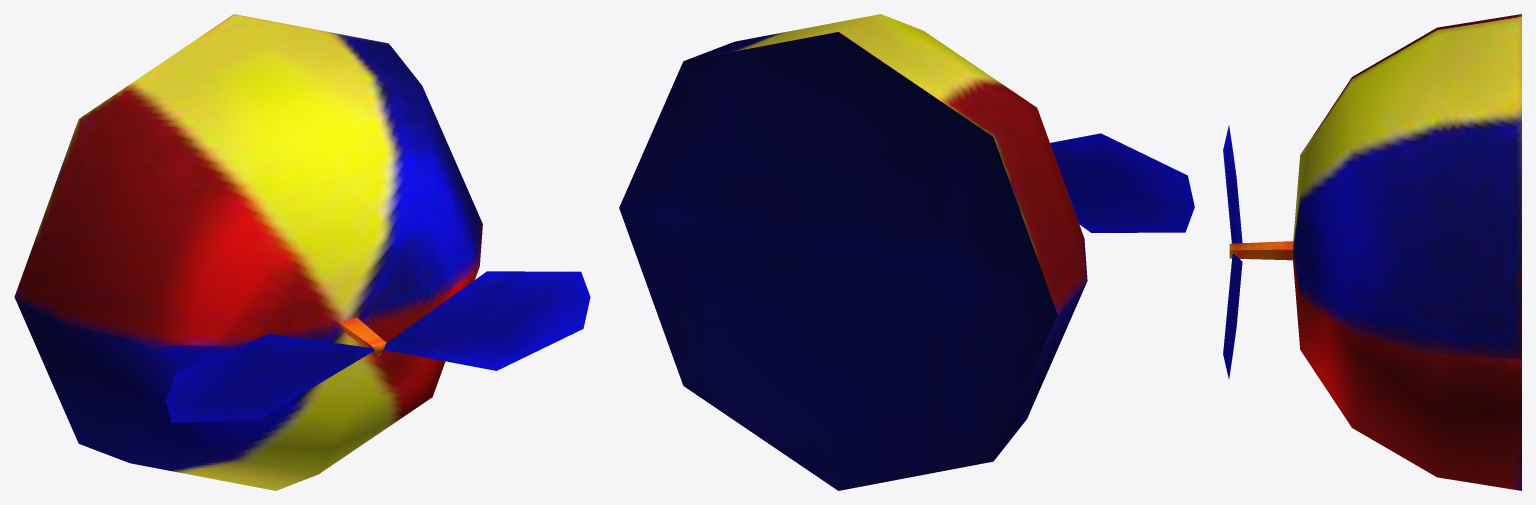
File: tt_m_chr_avt_acc_hat_propellerHat.glb
3 views of the same model, side by side, from view 1: azimuth 30°, elevation 25°; view 2: azimuth 150°, elevation 25°; view 3: azimuth 270°, elevation 25° (orthographic).
Visible parts, largest first — view 1: propellerHat; view 2: propellerHat; view 3: propellerHat.
Boxes of the visible parts, left/top/right/bottom form: propellerHat: left=14, top=14, right=590, bottom=490; propellerHat: left=619, top=14, right=1194, bottom=490; propellerHat: left=1223, top=14, right=1521, bottom=490.
Size of the model in its own units: 2.95 by 2.95 by 1.73.
1 material, 1 textured.
